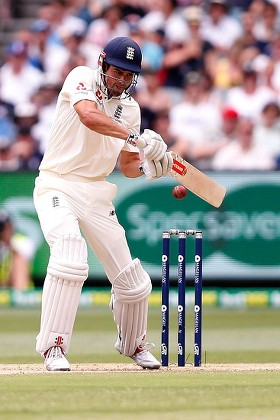Cutshot: (7, 1, 266, 420)
